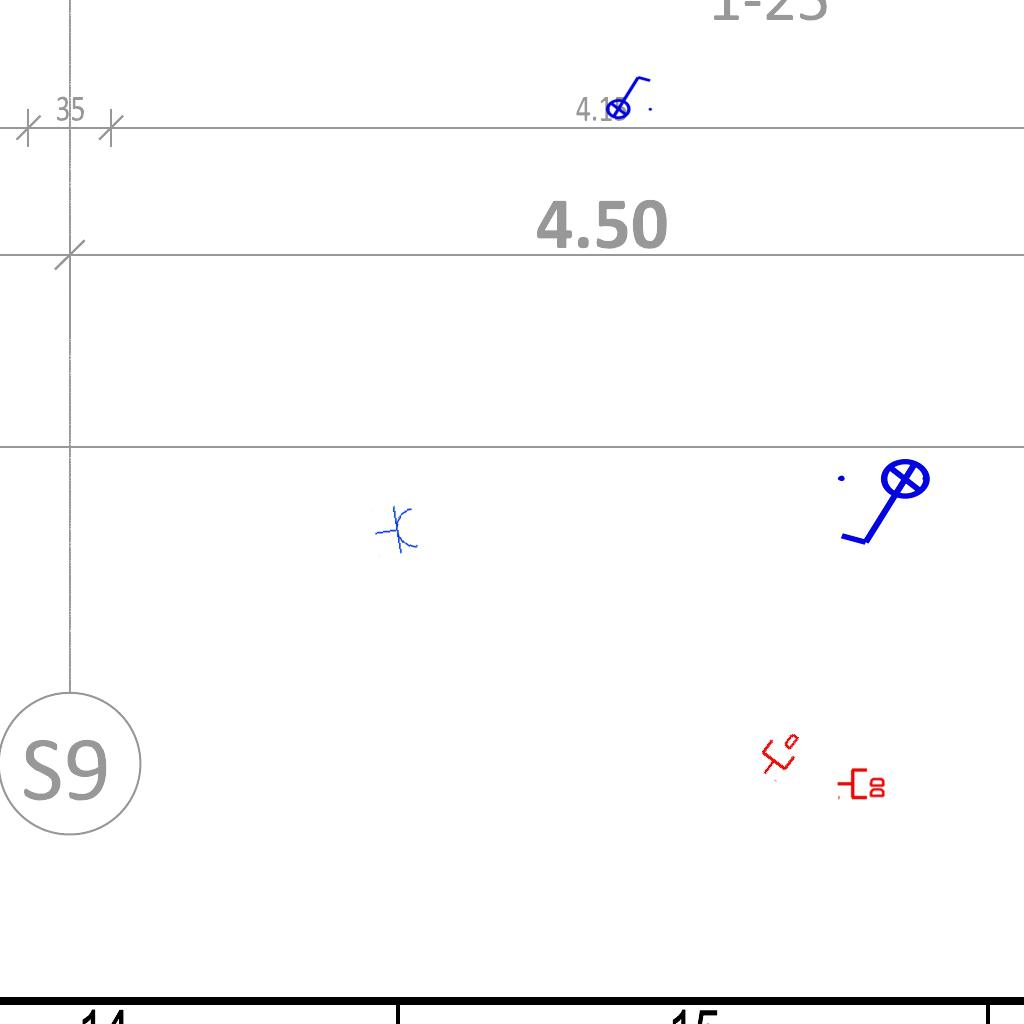Ausschalter_beleuchtet: (832, 457, 944, 553), (599, 72, 655, 120)
Datenanschluss_einfach: (750, 723, 808, 785)
Datenanschluss_zweifach: (836, 766, 887, 800)
Schukosteckdose_einfach: (370, 502, 422, 559)
